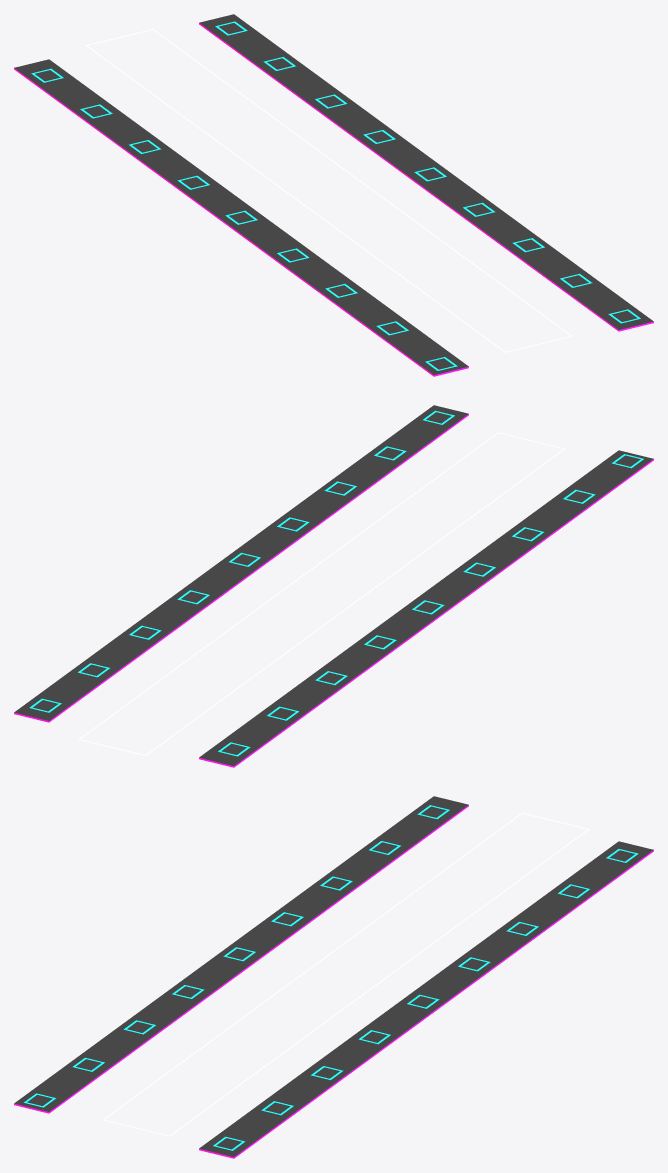
The model's file is CombinedMesh-MeshBaker (5)-mesh.fbx.
The picture shows the model from 3 angles, top to bottom: view 1: azimuth 30°, elevation 25°; view 2: azimuth 150°, elevation 25°; view 3: azimuth 330°, elevation 25°; orthographic projection.
Parts seen in each view (by area): view 1: MeshBaker__5__mesh_mesh; view 2: MeshBaker__5__mesh_mesh; view 3: MeshBaker__5__mesh_mesh.
Part boxes in pixels (x1,y1,x2,y2): MeshBaker__5__mesh_mesh: (14, 14, 653, 376); MeshBaker__5__mesh_mesh: (14, 405, 653, 767); MeshBaker__5__mesh_mesh: (14, 796, 653, 1158).
Size of the model in its own units: 902 by 17.01 by 3041.
1 material, 1 textured.
